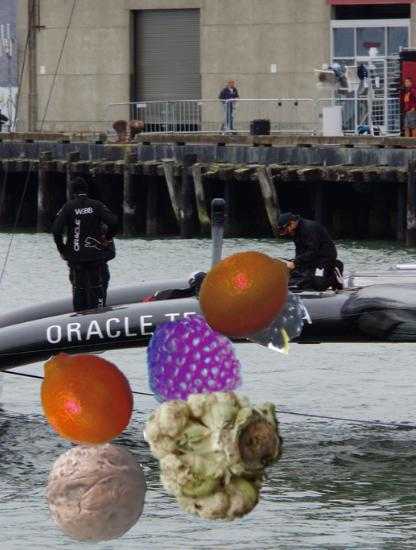Cauliflower: (146, 384, 288, 526)
Mulberry: (235, 264, 320, 349)
Raspberry: (143, 314, 241, 412)
Tangelo: (33, 345, 137, 449), (197, 243, 297, 343)
Walnut: (44, 441, 147, 544)
